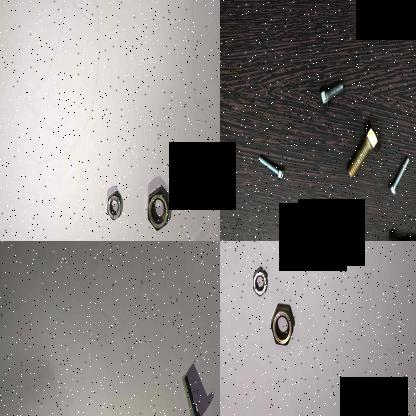Bolts: (341, 117, 384, 183), (315, 74, 347, 118), (384, 150, 412, 198), (178, 371, 203, 416), (256, 147, 284, 184), (386, 223, 416, 241)
NUTS: (141, 184, 175, 238), (269, 296, 295, 350), (103, 188, 123, 224), (249, 265, 269, 295)
